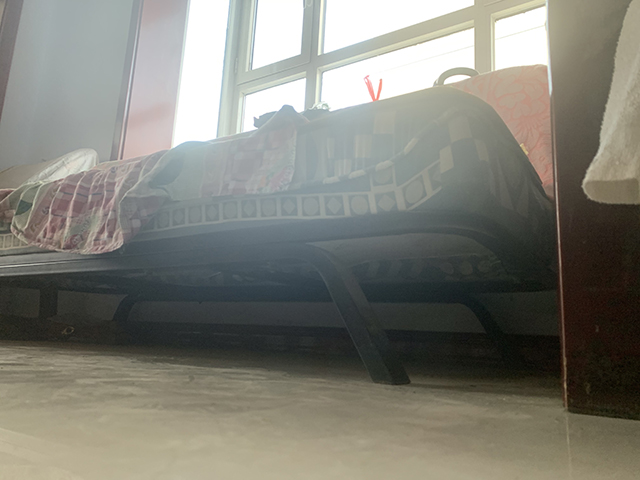sofa: (1, 64, 557, 387)
